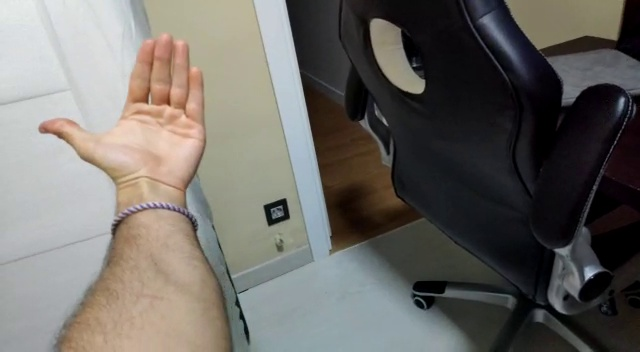Palm: (36, 32, 207, 194)
